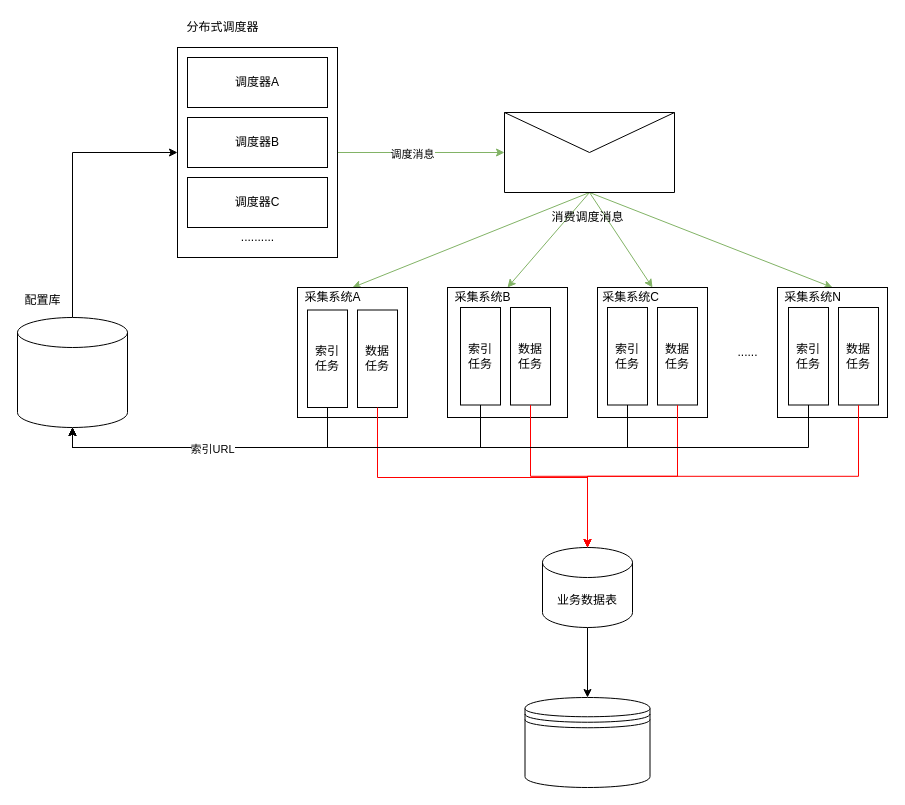
This 905x805 diagram has some shape labels left out. Here are the shapes that lost their labels. From the top down, the box of each, then its label:
(504, 112, 674, 192): 任务消息
(16, 316, 128, 428): 1.任务配置 2.解析配置 3.索引URL
(524, 696, 650, 788): Hive表
